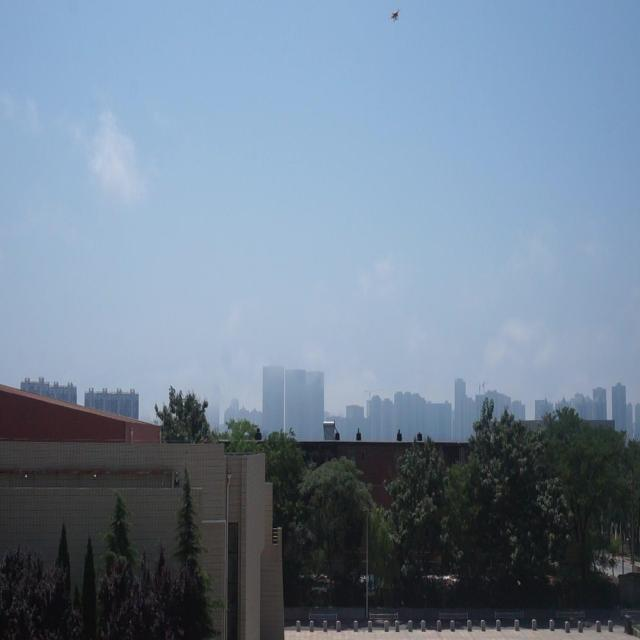drone: (389, 8, 402, 23)
